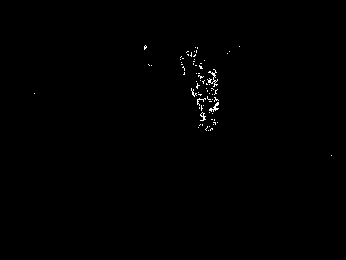person: (192, 63, 224, 137)
